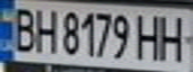1: (78, 8, 96, 57)
7: (93, 9, 115, 58)
8: (57, 7, 81, 55)
9: (109, 9, 136, 60)
B: (6, 3, 39, 53)
H: (154, 11, 190, 62), (133, 9, 166, 61), (30, 4, 60, 54)
